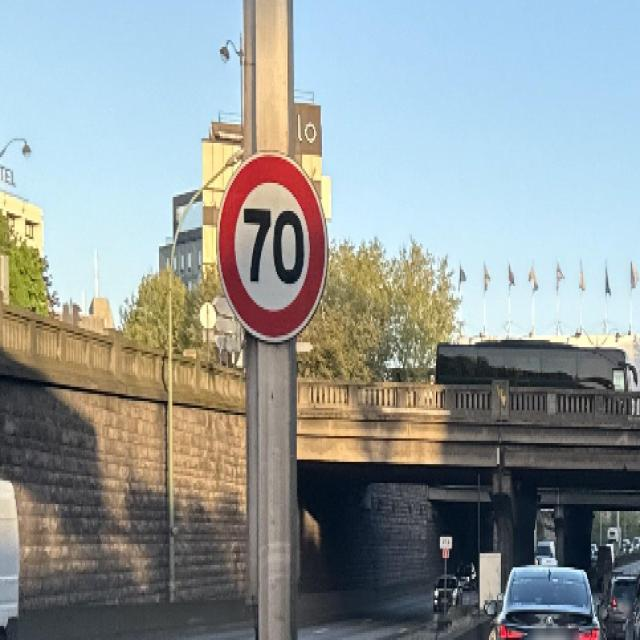speed_70: (215, 150, 330, 342)
